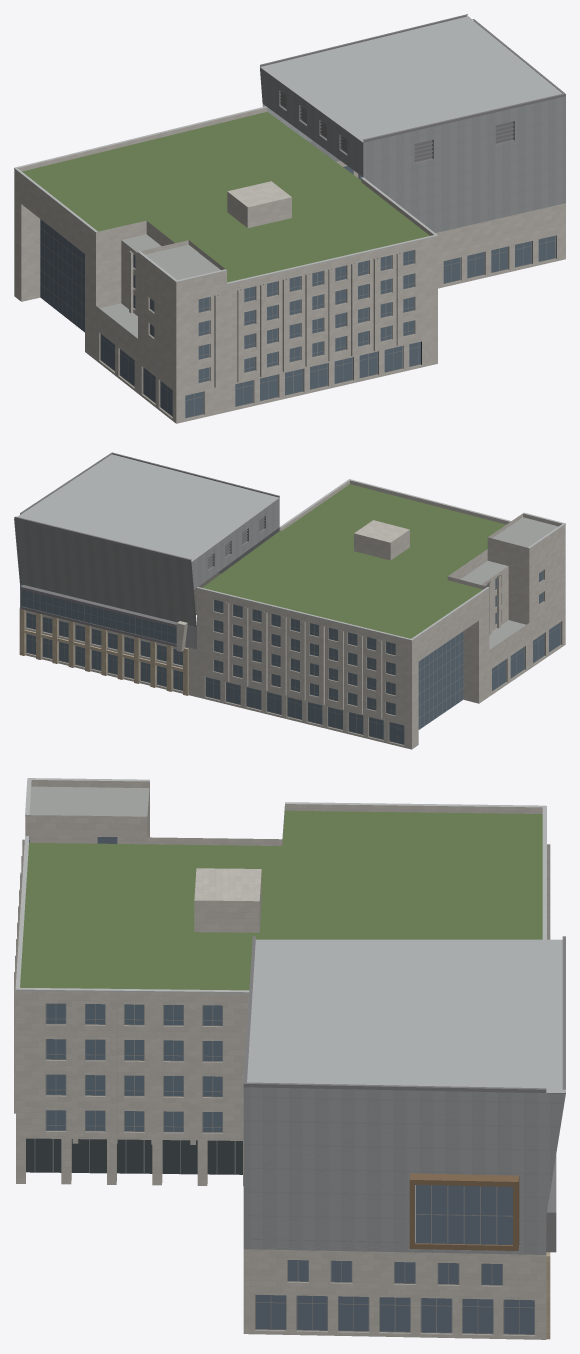
The picture shows the model from 3 angles, top to bottom: view 1: azimuth 30°, elevation 25°; view 2: azimuth 150°, elevation 25°; view 3: azimuth 270°, elevation 25°; orthographic projection. The views are drawn at different scales.
Visible parts, largest first — view 1: mainHall__wall, mainHall__roofGreen, mainHall__metal, mainHall__roofMetal, mainHall__glass, mainHall__frame, mainHall__frameDark, mainHall__reveal, mainHall__roof, mainHall__cap; view 2: mainHall__wall, mainHall__roofGreen, mainHall__glass, mainHall__roofMetal, mainHall__metal, mainHall__frame, mainHall__pier, mainHall__frameDark, mainHall__reveal, mainHall__roof, mainHall__cap; view 3: mainHall__roofGreen, mainHall__wall, mainHall__roofMetal, mainHall__metal, mainHall__glass, mainHall__glassDark, mainHall__frame, mainHall__frameDark, mainHall__roof, mainHall__cap, mainHall__bronze, mainHall__reveal.
Part boxes in pixels (left/top/right/bottom): mainHall__wall: left=14, top=107, right=565, bottom=423; mainHall__roofGreen: left=22, top=111, right=429, bottom=282; mainHall__metal: left=260, top=16, right=565, bottom=232; mainHall__roofMetal: left=260, top=16, right=562, bottom=142; mainHall__glass: left=40, top=166, right=555, bottom=417; mainHall__frame: left=40, top=92, right=555, bottom=418; mainHall__frameDark: left=260, top=14, right=565, bottom=163; mainHall__reveal: left=99, top=165, right=556, bottom=419; mainHall__roof: left=99, top=234, right=220, bottom=338; mainHall__cap: left=14, top=106, right=437, bottom=284; mainHall__wall: left=20, top=480, right=565, bottom=749; mainHall__roofGreen: left=202, top=484, right=505, bottom=638; mainHall__glass: left=21, top=571, right=560, bottom=744; mainHall__roofMetal: left=18, top=454, right=279, bottom=561; mainHall__metal: left=14, top=498, right=279, bottom=649; mainHall__frame: left=21, top=517, right=560, bottom=744; mainHall__pier: left=19, top=608, right=188, bottom=695; mainHall__frameDark: left=14, top=452, right=279, bottom=646; mainHall__reveal: left=25, top=569, right=562, bottom=745; mainHall__roof: left=460, top=517, right=558, bottom=649; mainHall__cap: left=197, top=479, right=565, bottom=640; mainHall__roofGreen: left=20, top=810, right=542, bottom=990; mainHall__wall: left=14, top=780, right=550, bottom=1339; mainHall__roofMetal: left=247, top=939, right=565, bottom=1092; mainHall__metal: left=243, top=1087, right=565, bottom=1254; mainHall__glass: left=29, top=836, right=534, bottom=1334; mainHall__glassDark: left=26, top=1138, right=242, bottom=1174; mainHall__frame: left=34, top=1003, right=534, bottom=1334; mainHall__frameDark: left=243, top=936, right=565, bottom=1252; mainHall__roof: left=29, top=786, right=149, bottom=816; mainHall__cap: left=15, top=778, right=546, bottom=993; mainHall__bronze: left=409, top=1173, right=519, bottom=1250; mainHall__reveal: left=45, top=836, right=534, bottom=1336.
Size of the model in its own units: 76.6 by 25.35 by 50.68.
Materials: 15 (4 with a texture image).
